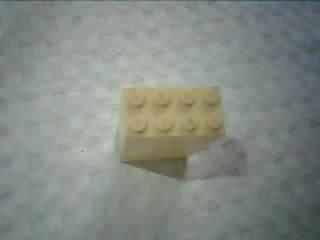lego: (111, 82, 226, 164)
